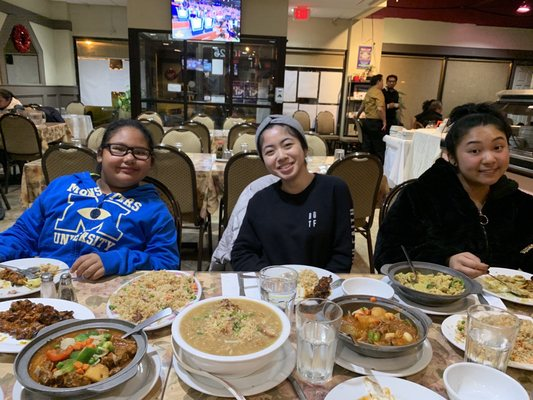pizza: (295, 298, 343, 384), (464, 305, 521, 372), (295, 320, 339, 385), (259, 266, 298, 322)
sushi: (16, 322, 148, 400), (172, 296, 291, 377), (333, 299, 427, 358)
